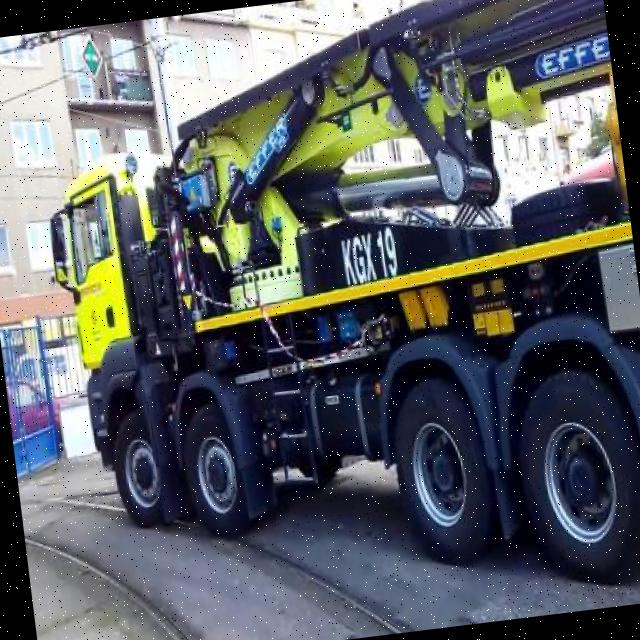Mobile Crane: (24, 0, 640, 640)
